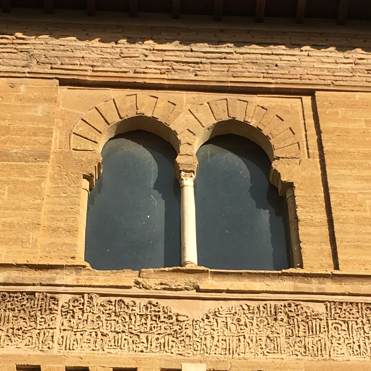arco-herradura: (81, 108, 189, 183), (189, 110, 285, 185)
